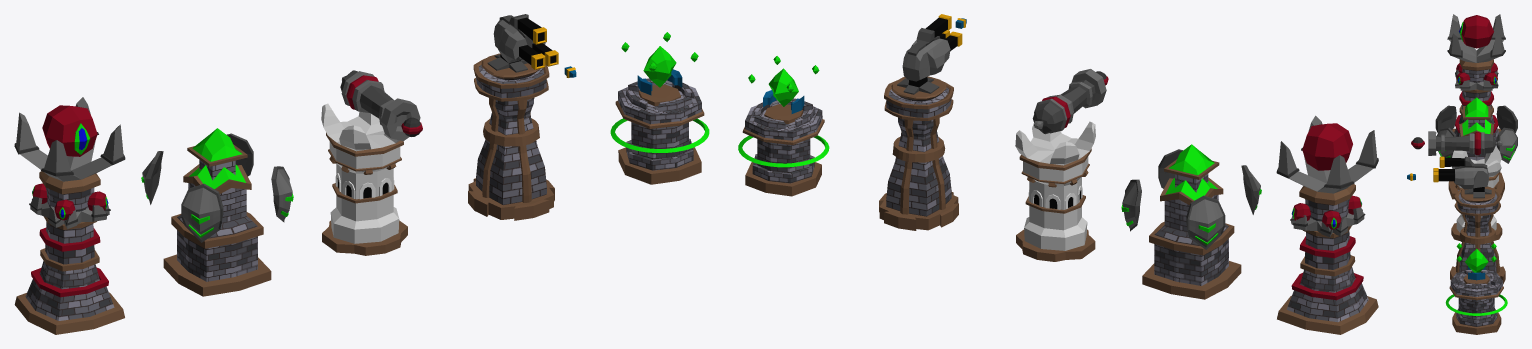
File: Battle Towers Level2.fbx
3 views of the same model, side by side, from view 1: azimuth 30°, elevation 25°; view 2: azimuth 150°, elevation 25°; view 3: azimuth 270°, elevation 25° (orthographic). The views are drawn at different scales.
Parts seen in each view (by area): view 1: Fire Tower.001, Turret Tower.002, Shield Tower.001, Cannon Tower.001, HealTower.001, Shields.001, Cannon.001, Turret.001, Fire Tower Eye.001, Fire Tower Eye.002, HealTowerJem.002, Circle; view 2: Fire Tower.001, Turret Tower.002, Cannon Tower.001, Shield Tower.001, HealTower.001, Shields.001, Cannon.001, Turret.001, Fire Tower Eye.001, Fire Tower Eye.002, HealTowerJem.002, Circle (+1 smaller); view 3: Fire Tower.001, Turret Tower.002, HealTower.001, Shields.001, Turret.001, Shield Tower.001, Cannon.001, Cannon Tower.001, Fire Tower Eye.001, HealTowerJem.002, Fire Tower Eye.002, Circle (+4 smaller).
Part boxes in pixels (<box>): Fire Tower.001: <box>14,97,125,334</box>; Turret Tower.002: <box>468,53,554,220</box>; Shield Tower.001: <box>163,128,271,296</box>; Cannon Tower.001: <box>321,103,407,255</box>; HealTower.001: <box>615,78,704,184</box>; Shields.001: <box>141,133,293,242</box>; Cannon.001: <box>340,70,420,141</box>; Turret.001: <box>493,14,558,69</box>; Fire Tower Eye.001: <box>42,105,97,156</box>; Fire Tower Eye.002: <box>32,183,106,220</box>; HealTowerJem.002: <box>643,46,676,87</box>; Circle: <box>610,118,709,152</box>; Fire Tower.001: <box>1276,115,1378,334</box>; Turret Tower.002: <box>879,76,958,230</box>; Cannon Tower.001: <box>1015,121,1095,261</box>; Shield Tower.001: <box>1142,144,1241,299</box>; HealTower.001: <box>742,98,824,196</box>; Shields.001: <box>1121,149,1261,249</box>; Cannon.001: <box>1032,69,1106,134</box>; Turret.001: <box>902,14,962,81</box>; Fire Tower Eye.001: <box>1302,123,1352,170</box>; Fire Tower Eye.002: <box>1293,195,1361,229</box>; HealTowerJem.002: <box>768,68,798,106</box>; Circle: <box>738,135,829,167</box>; Fire Tower.001: <box>1447,14,1505,146</box>; Turret Tower.002: <box>1450,186,1505,284</box>; HealTower.001: <box>1449,269,1503,334</box>; Shields.001: <box>1435,105,1517,163</box>; Turret.001: <box>1433,156,1488,189</box>; Shield Tower.001: <box>1448,97,1504,199</box>; Cannon.001: <box>1428,131,1502,155</box>; Cannon Tower.001: <box>1451,146,1502,241</box>; Fire Tower Eye.001: <box>1461,15,1493,48</box>; HealTowerJem.002: <box>1465,249,1488,272</box>; Fire Tower Eye.002: <box>1456,62,1497,84</box>; Circle: <box>1445,294,1507,315</box>.
Size of the model in its own units: 915 by 266 by 208.
